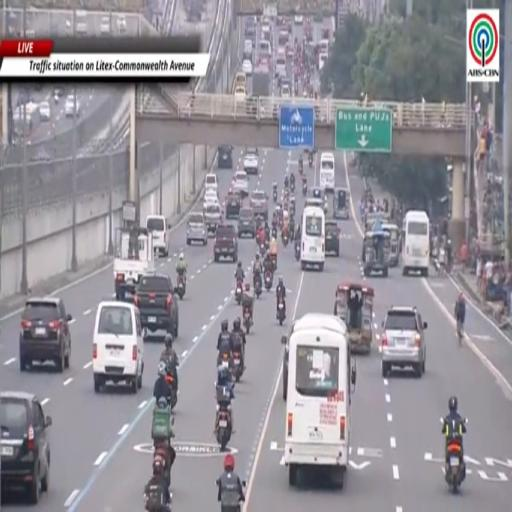bus: (282, 313, 356, 487), (402, 211, 429, 277), (301, 206, 325, 270), (319, 153, 335, 191), (233, 71, 246, 92)
car: (0, 391, 52, 504), (93, 301, 143, 393), (20, 297, 71, 372), (381, 307, 427, 377), (134, 274, 178, 338), (146, 215, 170, 257), (214, 224, 238, 262), (187, 212, 207, 245), (250, 190, 268, 219), (325, 220, 339, 257), (238, 207, 255, 237), (204, 203, 221, 233), (225, 192, 241, 219), (232, 171, 248, 197), (243, 148, 258, 174), (218, 146, 233, 169), (65, 94, 80, 117), (74, 10, 87, 36), (203, 189, 218, 209), (205, 173, 217, 192), (276, 70, 288, 88), (39, 102, 50, 121), (243, 39, 253, 59), (242, 59, 253, 76), (117, 13, 126, 33), (101, 15, 110, 35), (281, 85, 290, 99), (286, 44, 294, 58), (294, 15, 303, 25)
jeepney: (334, 282, 374, 351), (362, 231, 390, 277), (382, 223, 400, 266), (333, 188, 349, 219), (365, 213, 389, 231)
motorcycle: (445, 439, 465, 493), (216, 406, 231, 451), (166, 375, 178, 410), (233, 351, 244, 381), (218, 352, 230, 371), (176, 275, 185, 299), (277, 298, 285, 325), (243, 308, 251, 334), (254, 274, 261, 298), (236, 280, 242, 305), (265, 270, 272, 291), (281, 232, 289, 248), (295, 240, 300, 261), (259, 244, 266, 257), (271, 254, 276, 271), (308, 152, 313, 168), (290, 201, 295, 216), (290, 181, 295, 193), (303, 183, 307, 197), (273, 189, 277, 202), (299, 162, 303, 174), (272, 228, 276, 238)
truck: (113, 201, 154, 300), (113, 227, 154, 300), (247, 67, 271, 115), (252, 67, 270, 97)
